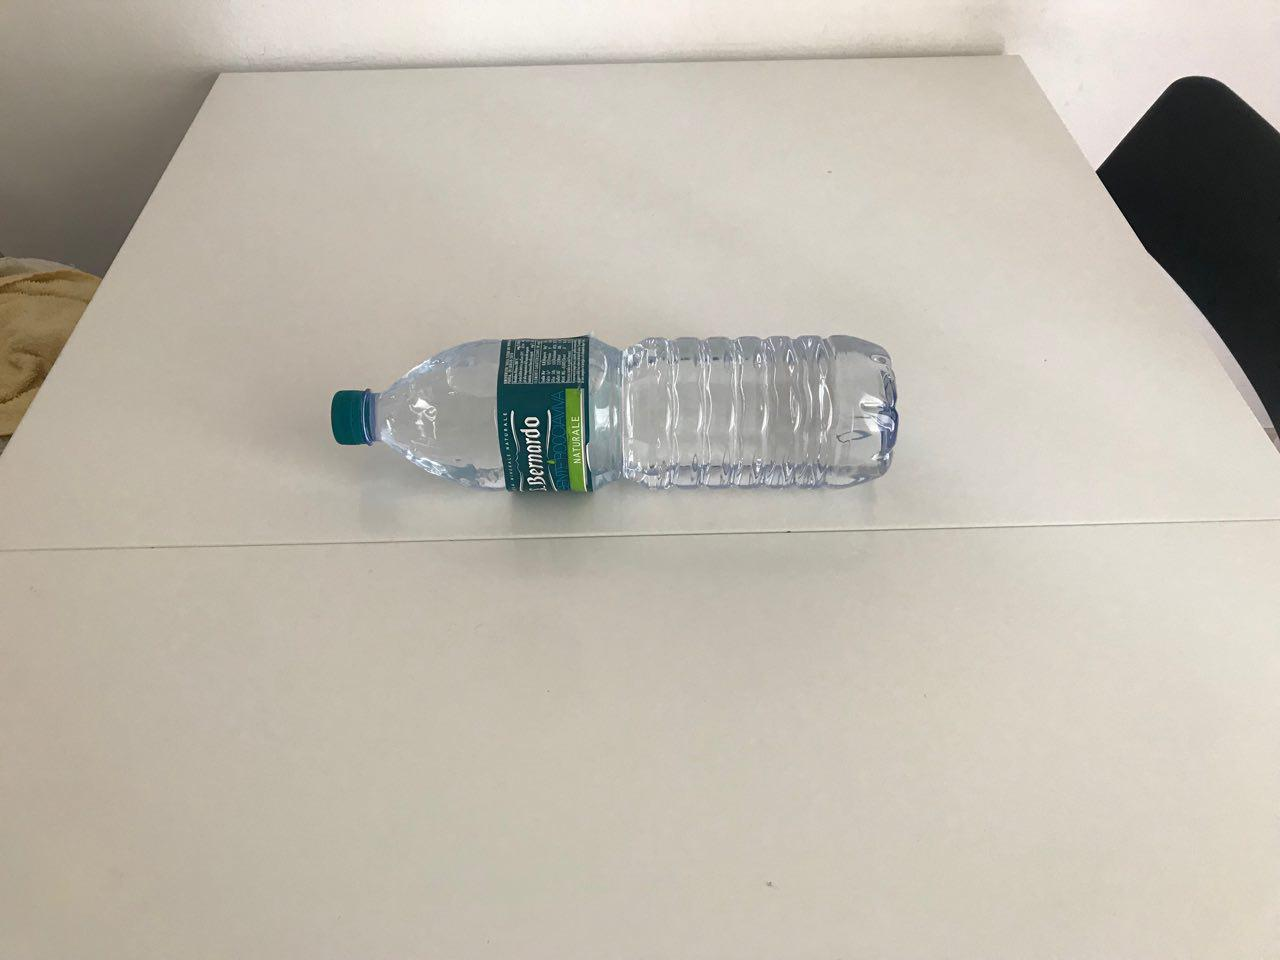san_bernardo: (330, 333, 900, 492)
